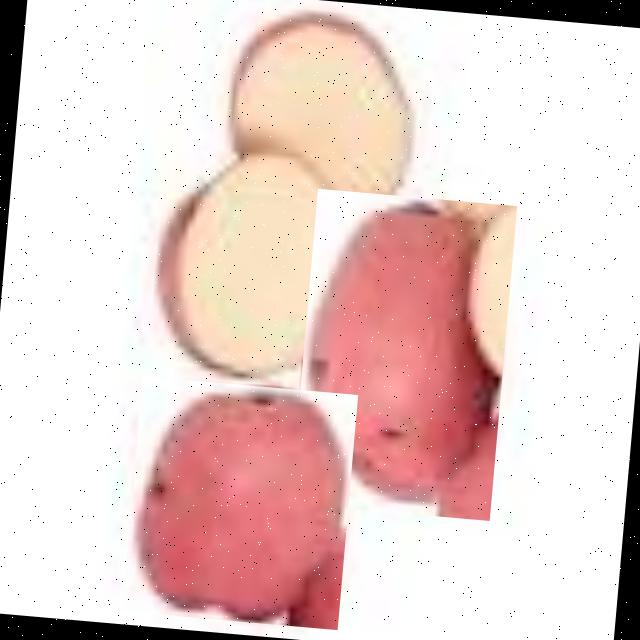Defected potato: (290, 188, 517, 520), (122, 374, 358, 628)
